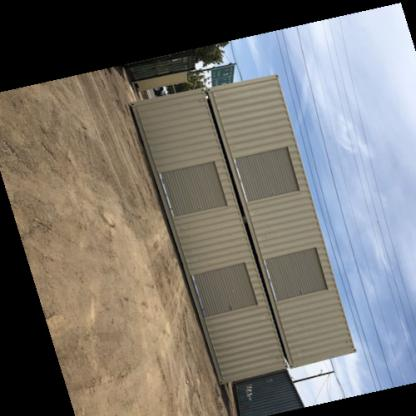Damage: (209, 320, 220, 352), (263, 185, 280, 202), (194, 200, 210, 213), (228, 296, 238, 314), (299, 284, 309, 298)
